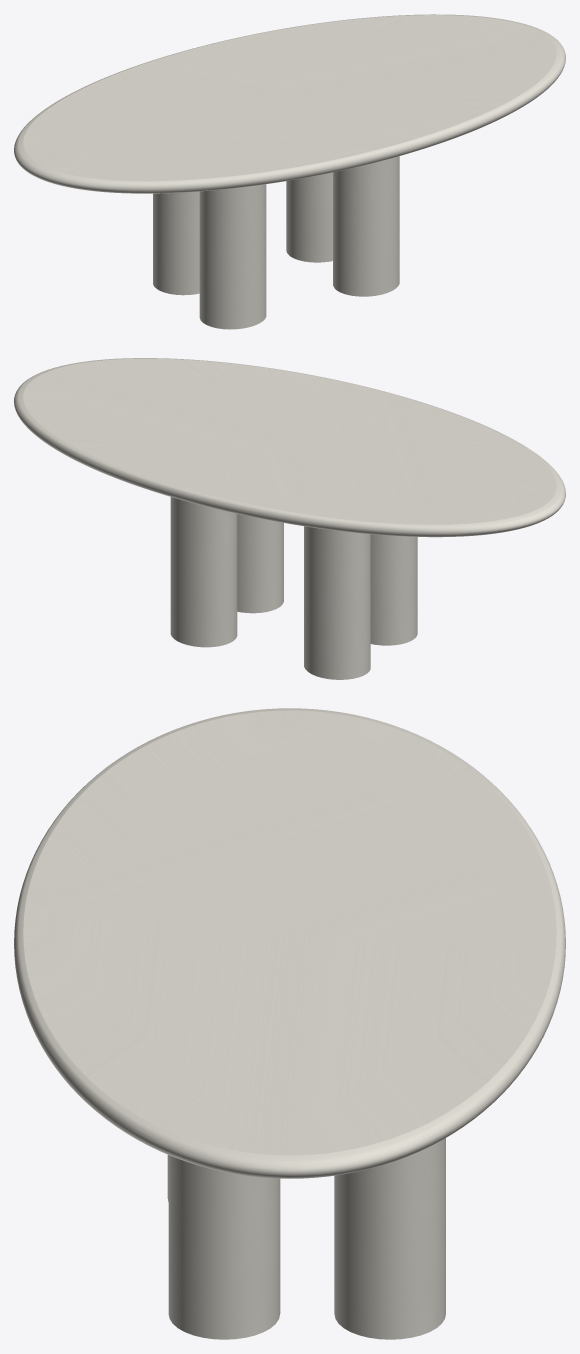
Rendered from pale_ellips_round_grove.glb.
3 renders of one model, top to bottom at view 1: azimuth 30°, elevation 25°; view 2: azimuth 150°, elevation 25°; view 3: azimuth 270°, elevation 25°, orthographic. The views are drawn at different scales.
Visible parts, largest first — view 1: round_ellips, grove; view 2: round_ellips, grove; view 3: round_ellips, grove.
Boxes of the visible parts, x1=… form: round_ellips: x1=14, y1=14, x2=565, y2=193; grove: x1=153, y1=156, x2=399, y2=329; round_ellips: x1=14, y1=358, x2=565, y2=537; grove: x1=170, y1=497, x2=417, y2=679; round_ellips: x1=14, y1=708, x2=565, y2=1178; grove: x1=167, y1=1138, x2=445, y2=1339.
Size of the model in its own units: 7.5 by 2.51 by 3.8.
1 material, 1 textured.
